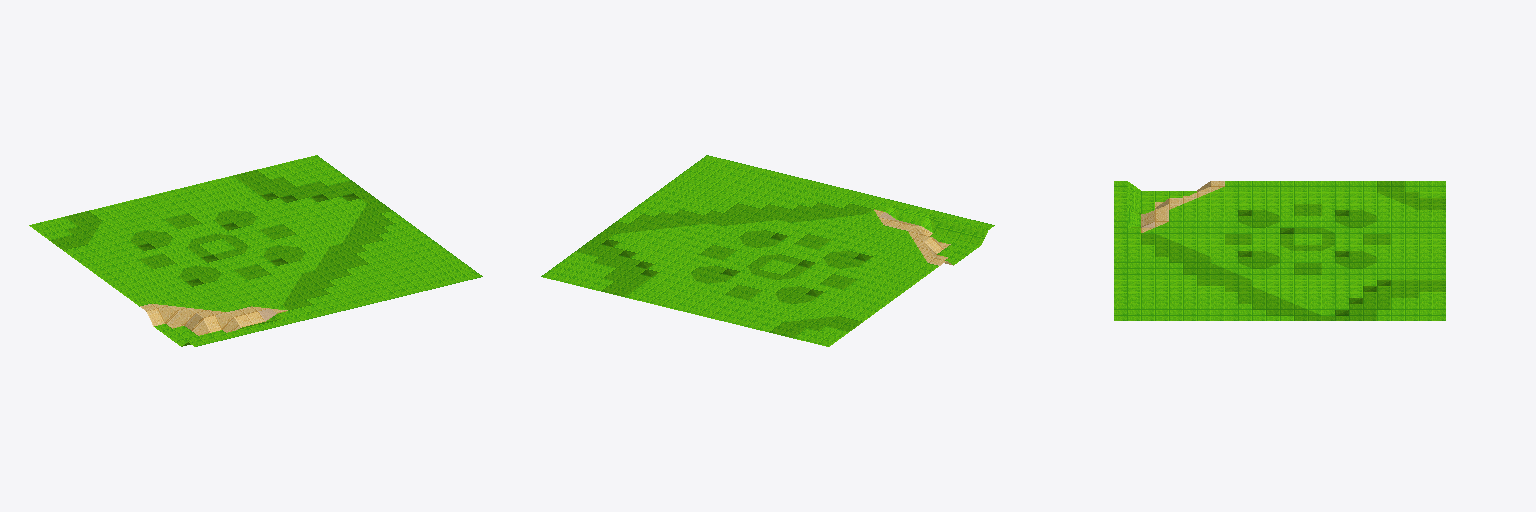
The picture shows the model from 3 angles: view 1: azimuth 30°, elevation 25°; view 2: azimuth 150°, elevation 25°; view 3: azimuth 270°, elevation 25°; orthographic projection.
Parts seen in each view (by area): view 1: FloorCorner_4; view 2: FloorCorner_4; view 3: FloorCorner_4.
Boxes of the visible parts, x1=… form: FloorCorner_4: x1=29, y1=155, x2=482, y2=346; FloorCorner_4: x1=541, y1=155, x2=994, y2=346; FloorCorner_4: x1=1114, y1=181, x2=1445, y2=320.
Bounding box in the file's own units: 24 × 0.7794 × 24.
11 materials, 11 textured.